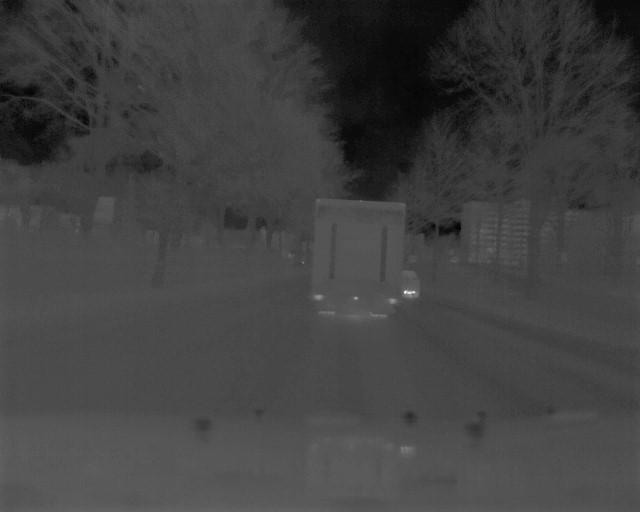car: (307, 193, 406, 323)
